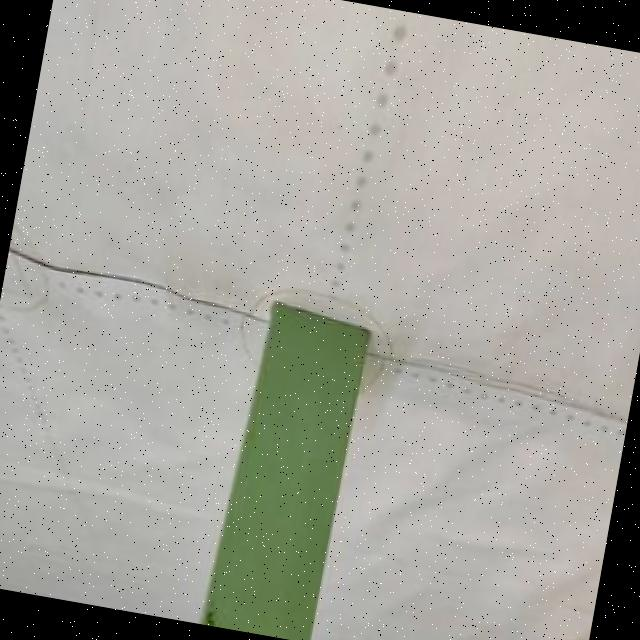greenbox: (191, 299, 386, 640)
